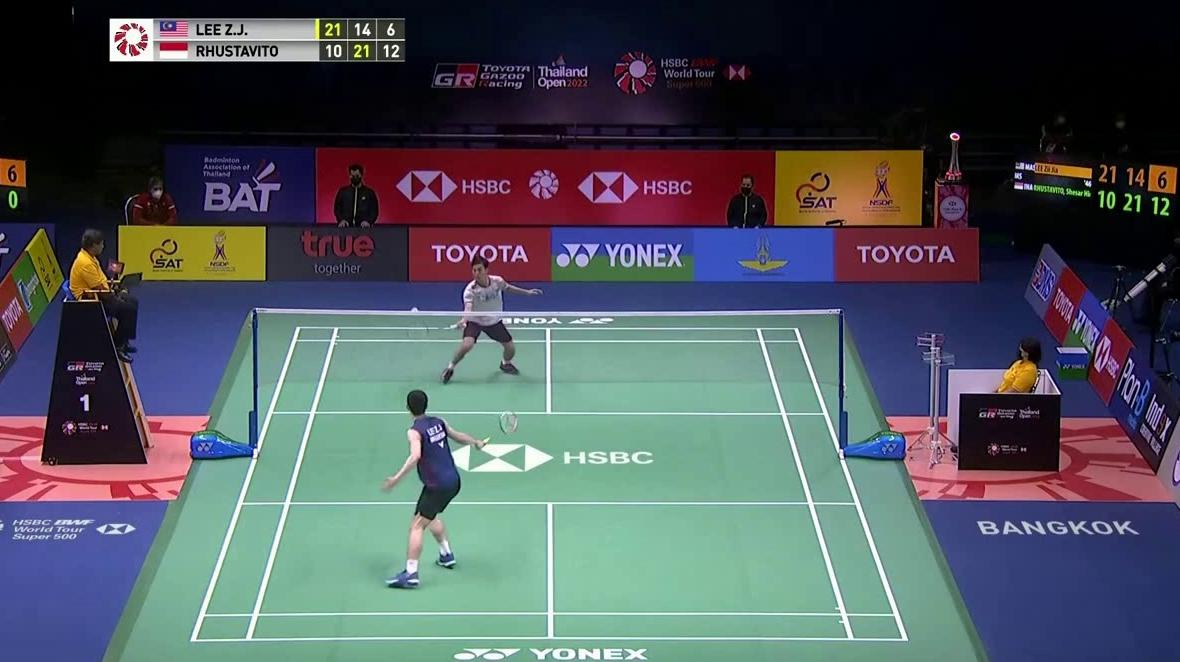racket: (477, 409, 522, 452), (406, 319, 467, 345)
shuttle: (411, 306, 419, 315)
